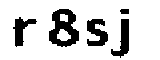8: (47, 5, 79, 52)
j: (108, 3, 138, 60)
r: (12, 16, 37, 50)
s: (83, 14, 109, 48)
